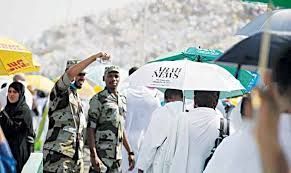uniform: (49, 59, 85, 173), (88, 69, 126, 170)
